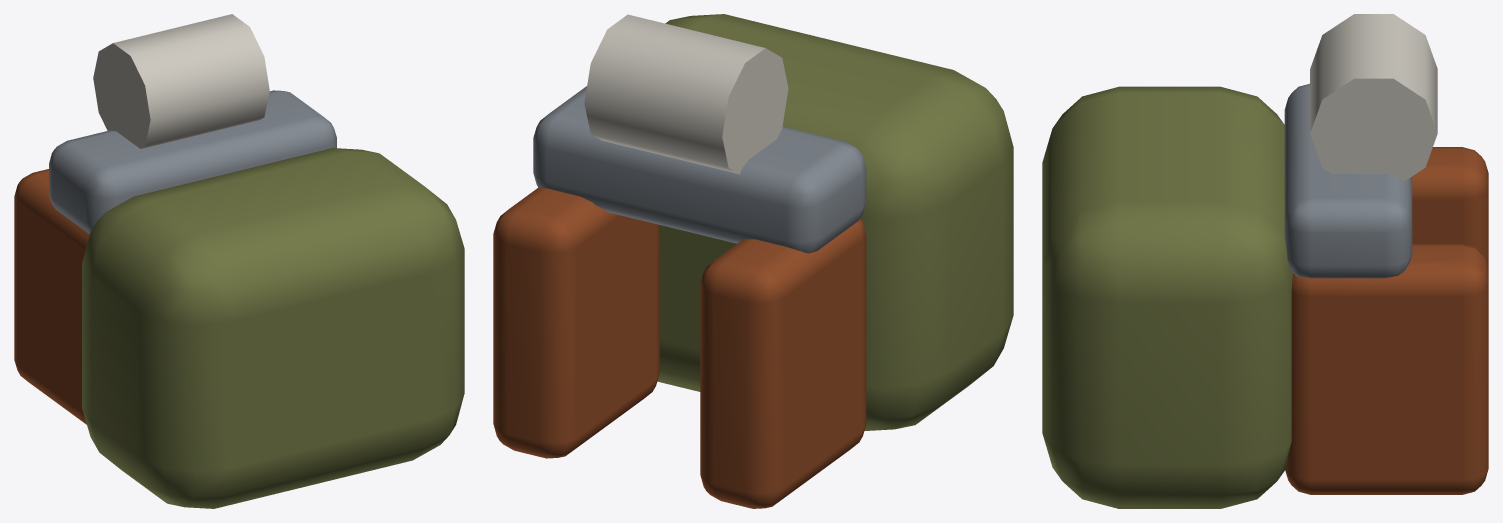
File: mo_scavenger.glb
3 renders of one model, left to right at view 1: azimuth 30°, elevation 25°; view 2: azimuth 150°, elevation 25°; view 3: azimuth 270°, elevation 25°, orthographic. The views are drawn at different scales.
Visible parts, largest first — view 1: mo_scavenger; view 2: mo_scavenger; view 3: mo_scavenger.
Part boxes in pixels (box(x1,y1,x2,y2)): mo_scavenger: box(14, 14, 464, 508); mo_scavenger: box(493, 14, 1013, 508); mo_scavenger: box(1042, 14, 1488, 508).
Size of the model in its own units: 0.1376 by 0.1494 by 0.1505.
